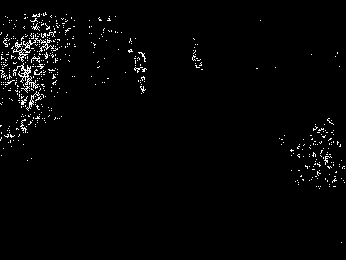person: (134, 51, 148, 93)
